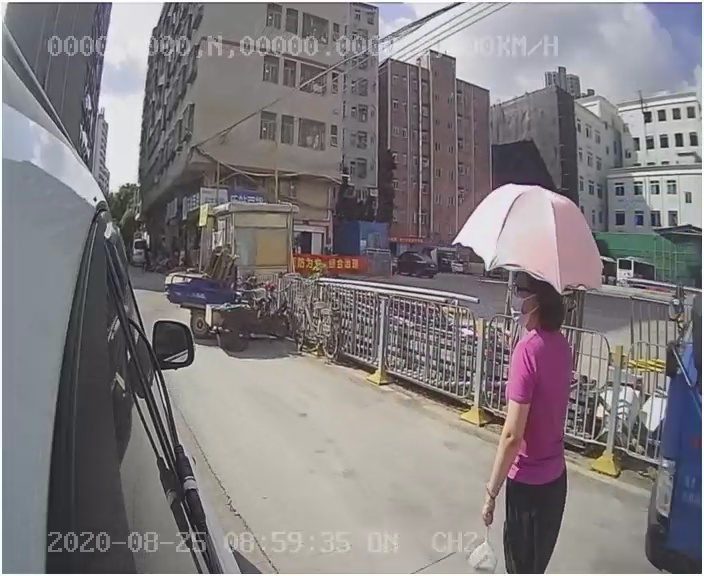person: (485, 282, 583, 569)
